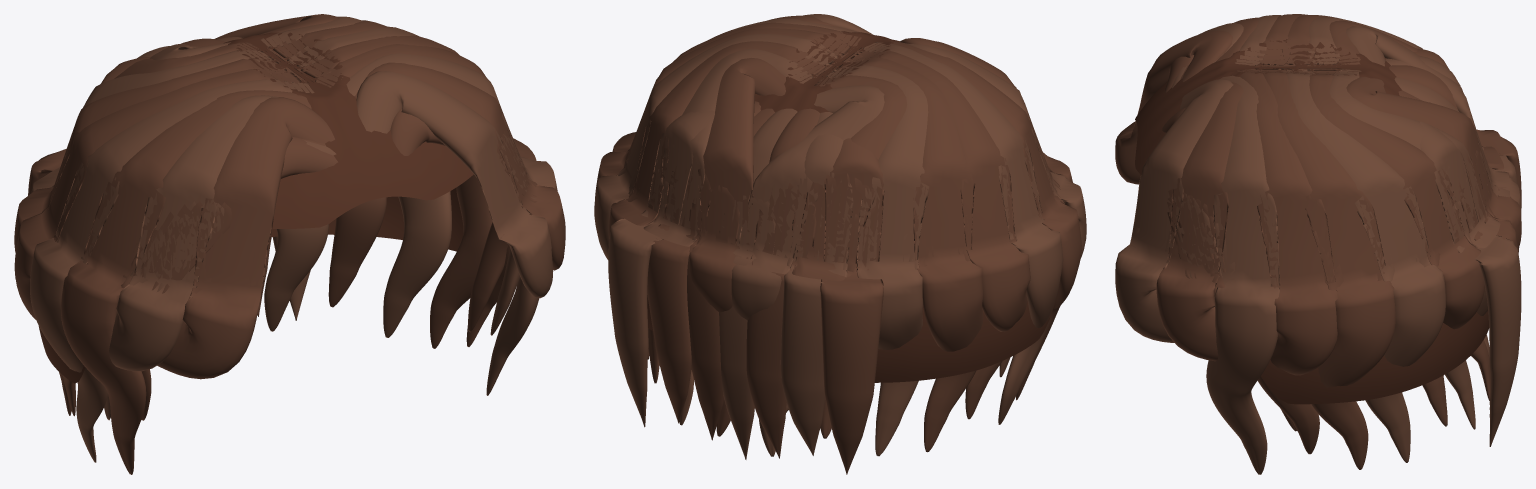
The model's file is Masculine-flow-cowboy251-hair.glb.
3 renders of one model, left to right at view 1: azimuth 30°, elevation 25°; view 2: azimuth 150°, elevation 25°; view 3: azimuth 270°, elevation 25°, orthographic. The views are drawn at different scales.
Visible parts, largest first — view 1: 226 hair / Hair / main251.001, 226 hair / Hair / accent251.001, 226 hair / Hair / recessed roots251.001; view 2: 226 hair / Hair / main251.001, 226 hair / Hair / accent251.001, 226 hair / Hair / recessed roots251.001; view 3: 226 hair / Hair / main251.001, 226 hair / Hair / accent251.001, 226 hair / Hair / recessed roots251.001.
Boxes of the visible parts, <box> form: 226 hair / Hair / main251.001: <box>14,14,565,474</box>; 226 hair / Hair / accent251.001: <box>30,16,557,462</box>; 226 hair / Hair / recessed roots251.001: <box>38,32,473,383</box>; 226 hair / Hair / main251.001: <box>595,15,1081,474</box>; 226 hair / Hair / accent251.001: <box>594,14,1086,459</box>; 226 hair / Hair / recessed roots251.001: <box>647,31,1054,382</box>; 226 hair / Hair / main251.001: <box>1115,14,1521,469</box>; 226 hair / Hair / accent251.001: <box>1115,15,1521,474</box>; 226 hair / Hair / recessed roots251.001: <box>1135,39,1488,404</box>.
Size of the model in its own units: 1.11 by 0.8284 by 0.8725.
